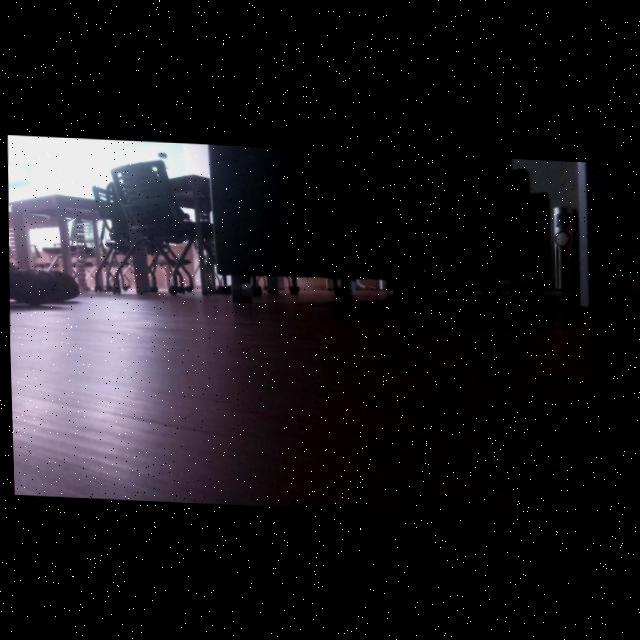G: (417, 247, 436, 271)
